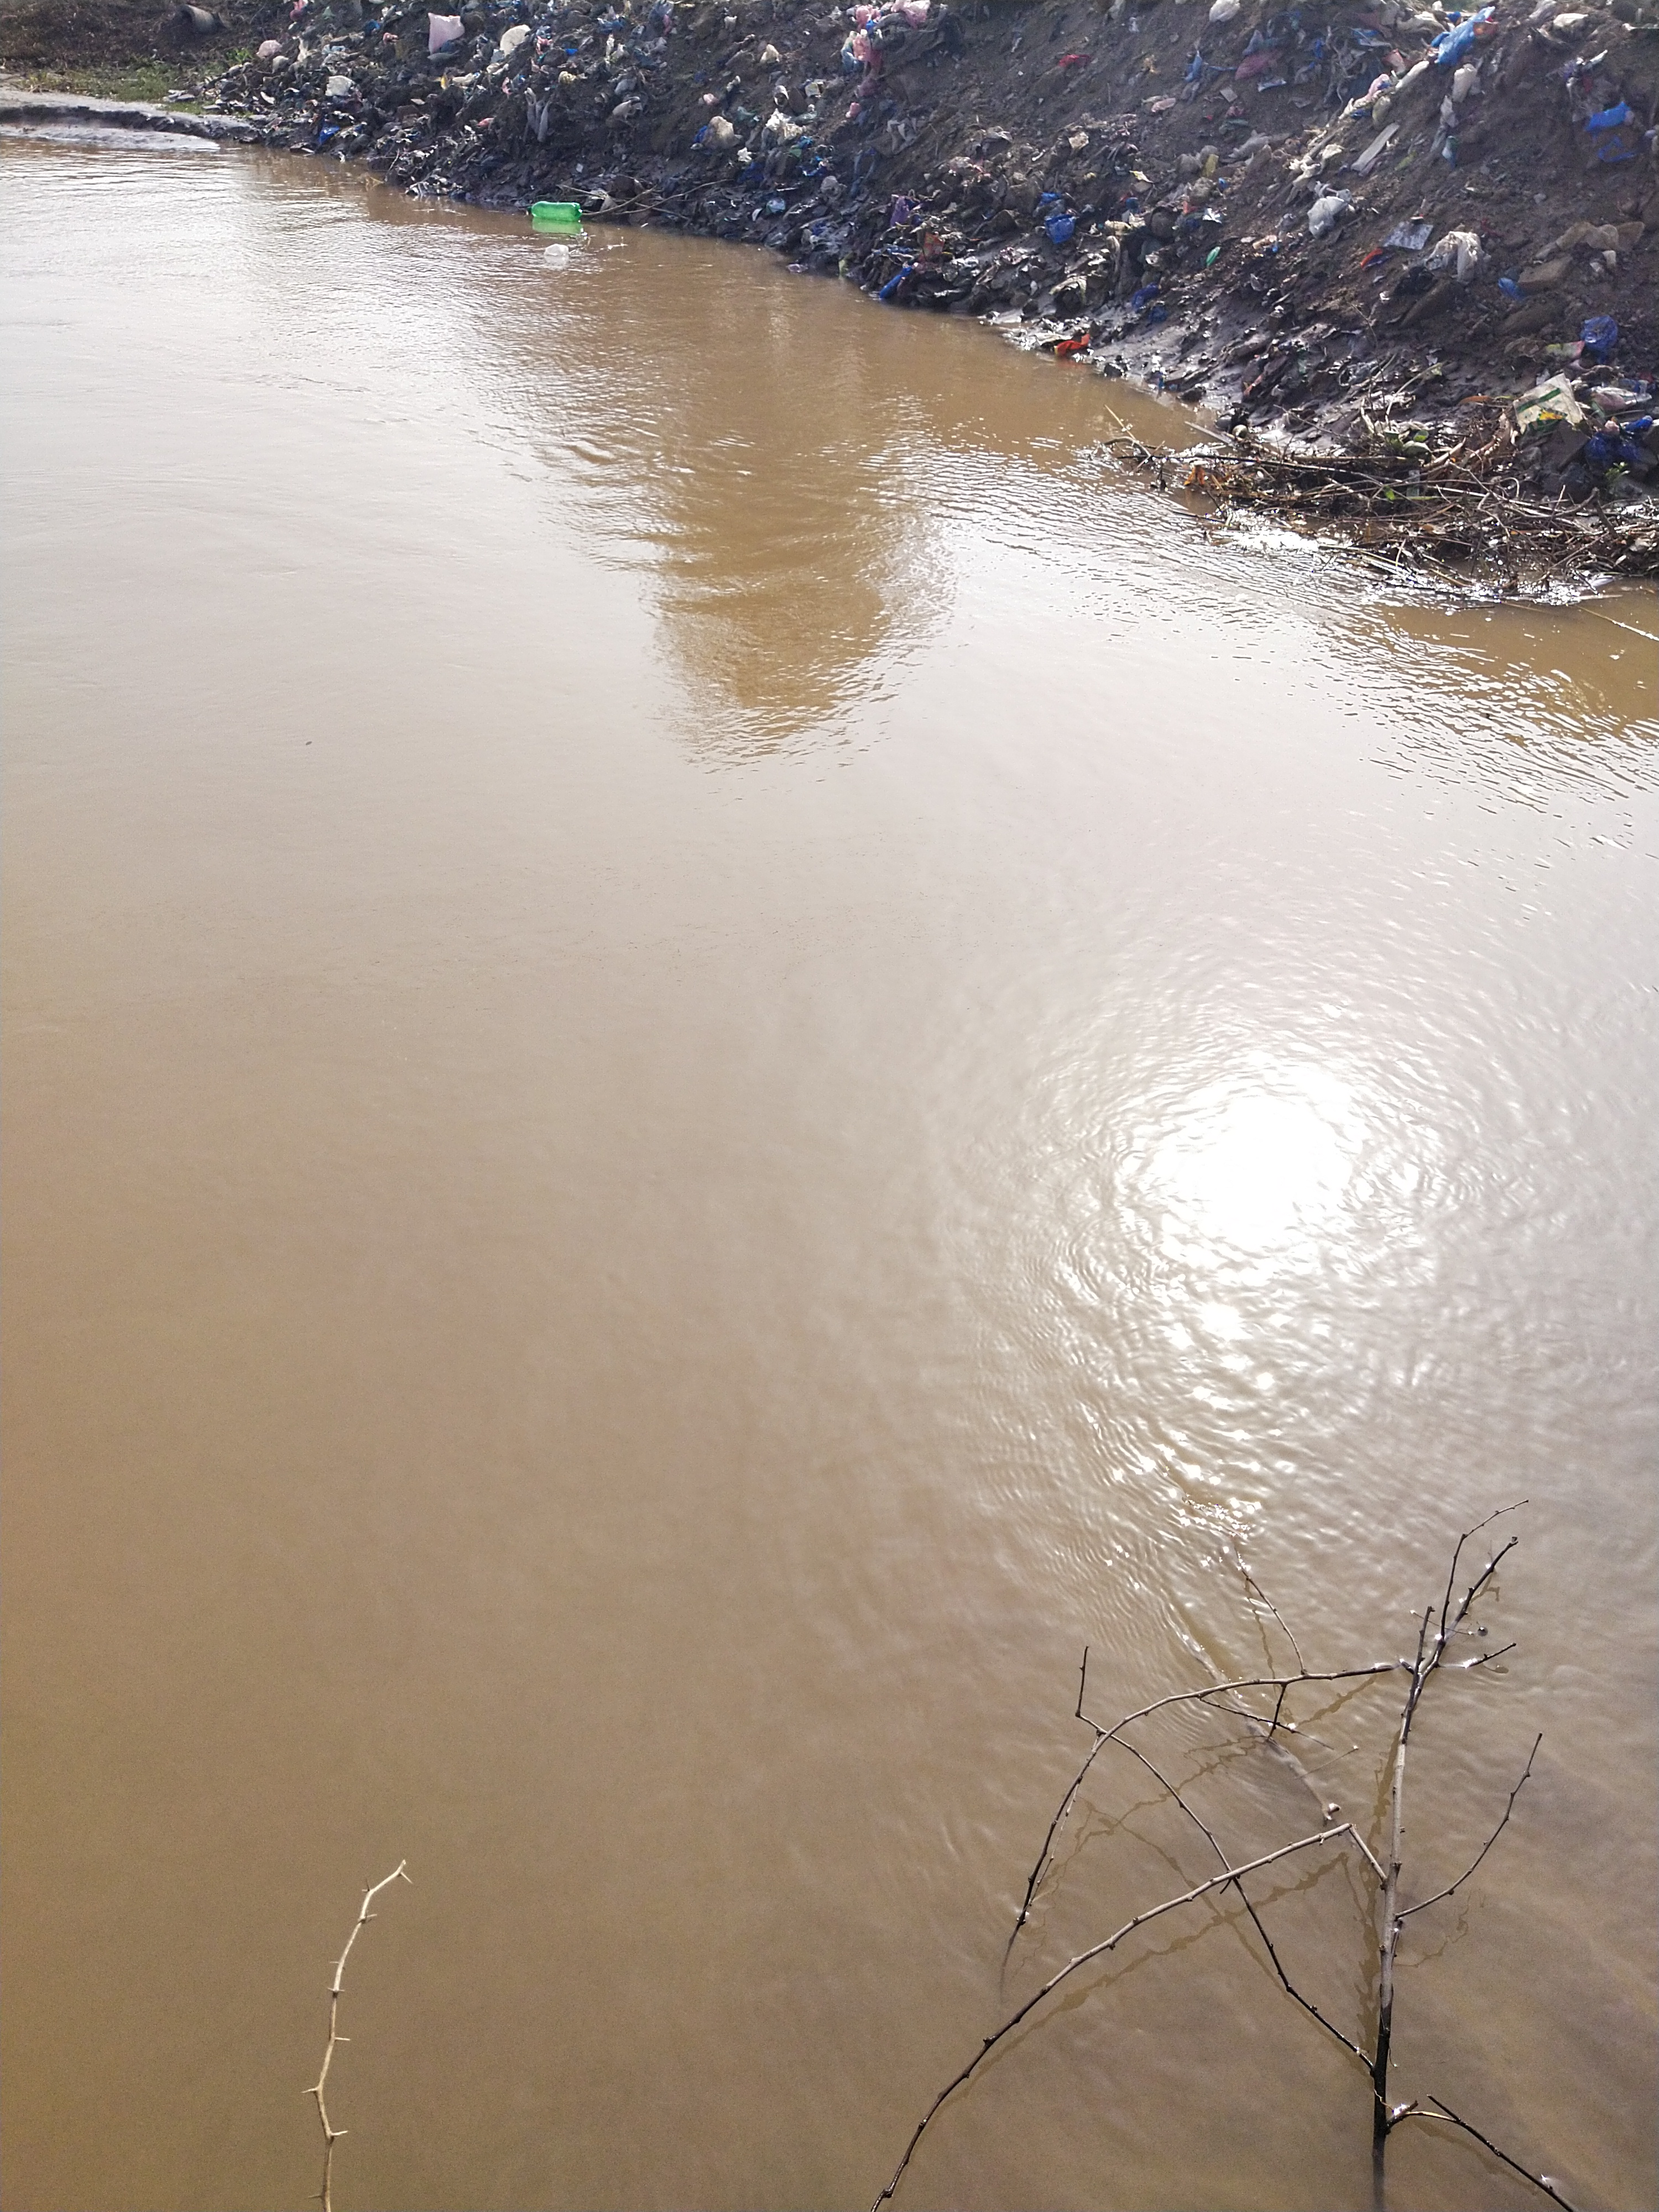Plastic Bottle: (526, 200, 580, 221)
